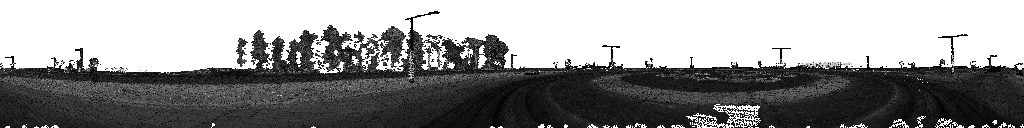light_pole: (405, 13, 439, 83), (938, 35, 967, 76), (772, 49, 790, 71), (602, 45, 620, 67), (5, 57, 15, 74), (987, 56, 996, 69), (349, 49, 353, 73), (511, 55, 516, 70)
traffic_pole: (88, 58, 98, 84), (970, 62, 978, 73)
